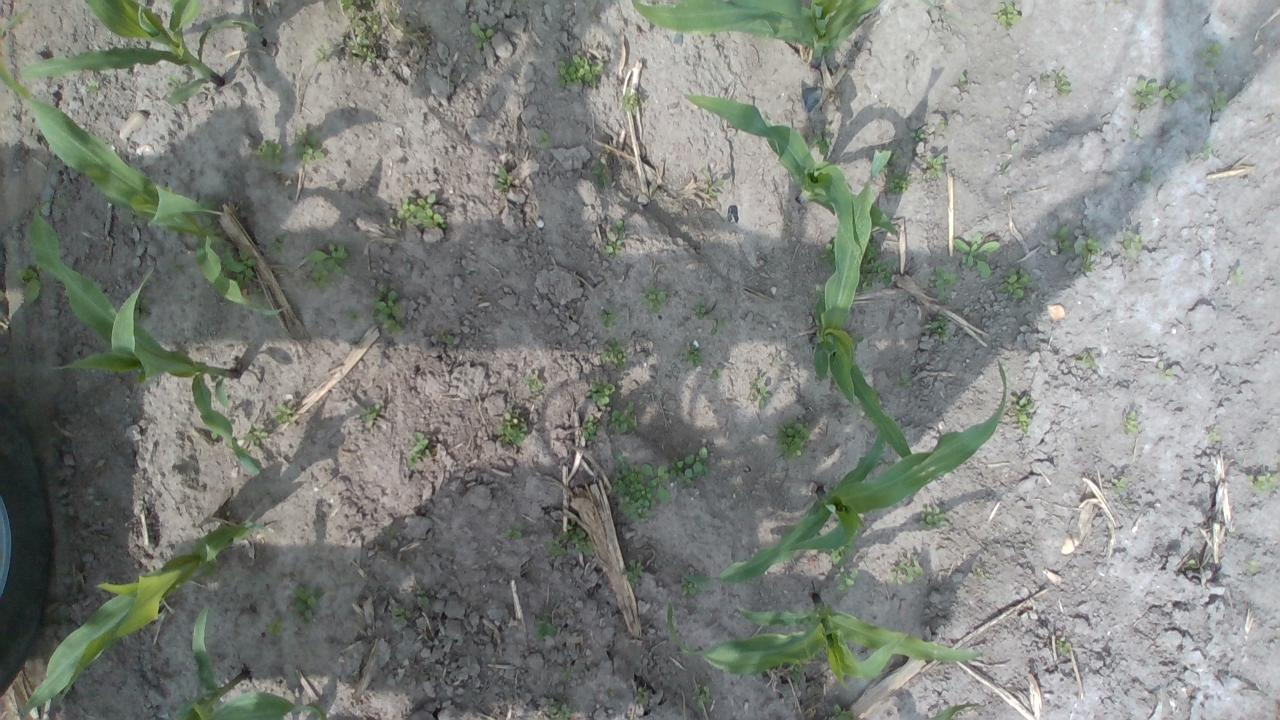Maize: (0, 4, 294, 324), (681, 355, 1008, 594), (20, 195, 267, 479), (22, 517, 275, 720), (680, 88, 900, 262), (801, 148, 910, 458), (663, 590, 985, 688), (18, 0, 266, 106), (631, 0, 977, 71), (151, 601, 327, 720), (829, 701, 988, 720)
Weeds: (609, 448, 670, 526), (336, 0, 382, 66), (302, 242, 354, 292), (219, 242, 265, 298), (953, 231, 1000, 279), (855, 237, 894, 293), (368, 282, 409, 335), (390, 192, 447, 230), (286, 582, 326, 631), (552, 53, 604, 90), (543, 523, 594, 559), (671, 446, 712, 486), (776, 416, 812, 461), (498, 406, 530, 449), (192, 194, 224, 236), (924, 265, 959, 300), (292, 125, 324, 162), (17, 264, 46, 304), (1009, 390, 1034, 434), (998, 268, 1031, 300), (606, 400, 637, 433), (890, 555, 924, 585), (1076, 233, 1102, 272), (638, 284, 669, 316), (598, 336, 628, 369), (1128, 78, 1158, 110), (584, 378, 616, 407), (1159, 78, 1192, 106), (924, 308, 950, 343), (992, 0, 1022, 30), (917, 503, 948, 532), (253, 138, 285, 166), (602, 219, 626, 256), (544, 697, 582, 720), (746, 375, 772, 408), (406, 430, 429, 466), (1244, 470, 1280, 493), (620, 558, 644, 590), (808, 124, 832, 156), (532, 612, 556, 642), (818, 236, 837, 273), (830, 542, 856, 569), (700, 168, 724, 197), (592, 155, 612, 189), (470, 23, 496, 49), (680, 342, 706, 368), (884, 169, 910, 195), (243, 421, 270, 446), (1120, 229, 1143, 258), (580, 413, 602, 443), (387, 9, 413, 34), (1051, 225, 1074, 253), (690, 684, 714, 710), (680, 572, 704, 598), (922, 154, 946, 180), (1197, 42, 1221, 68), (596, 306, 620, 330), (619, 86, 641, 111), (492, 166, 511, 194), (836, 570, 858, 594), (135, 293, 152, 324), (360, 402, 380, 428), (878, 148, 902, 169), (1074, 348, 1098, 369), (268, 232, 287, 258), (1122, 410, 1141, 436), (1054, 69, 1072, 96), (1208, 90, 1230, 112), (272, 403, 294, 424), (690, 298, 711, 320), (390, 604, 413, 624), (264, 616, 284, 638), (312, 40, 332, 61), (523, 373, 544, 393), (1226, 265, 1246, 286), (1156, 358, 1172, 384), (502, 523, 524, 540), (788, 662, 806, 682), (415, 588, 431, 610), (832, 704, 854, 720), (710, 315, 726, 337), (1054, 635, 1072, 654), (536, 130, 554, 148), (634, 686, 650, 706), (1111, 475, 1127, 494), (168, 259, 186, 275), (897, 372, 913, 390), (1206, 425, 1222, 443), (118, 212, 136, 228), (908, 128, 928, 142), (169, 74, 186, 90), (434, 332, 456, 344), (956, 74, 970, 91), (974, 566, 989, 581), (560, 667, 574, 683), (346, 311, 363, 323), (86, 79, 100, 93), (1128, 122, 1140, 138), (849, 330, 864, 342), (384, 525, 400, 536), (143, 273, 156, 286), (1141, 168, 1151, 184), (708, 367, 722, 378), (1186, 558, 1200, 569), (1202, 142, 1212, 157), (1248, 560, 1260, 572), (939, 116, 948, 130), (782, 220, 792, 231), (1010, 140, 1020, 150), (210, 430, 218, 440), (1226, 530, 1236, 538), (1042, 75, 1049, 82)
